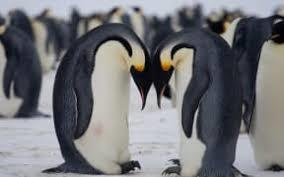emporer: (42, 17, 153, 177), (152, 18, 251, 177)
